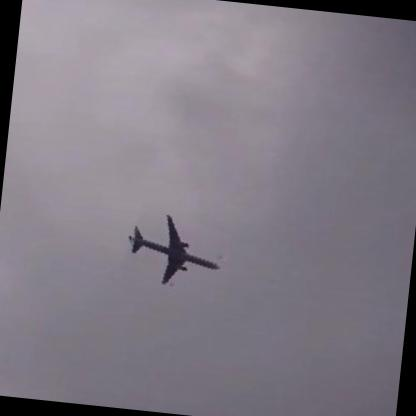plane: (119, 207, 229, 297)
